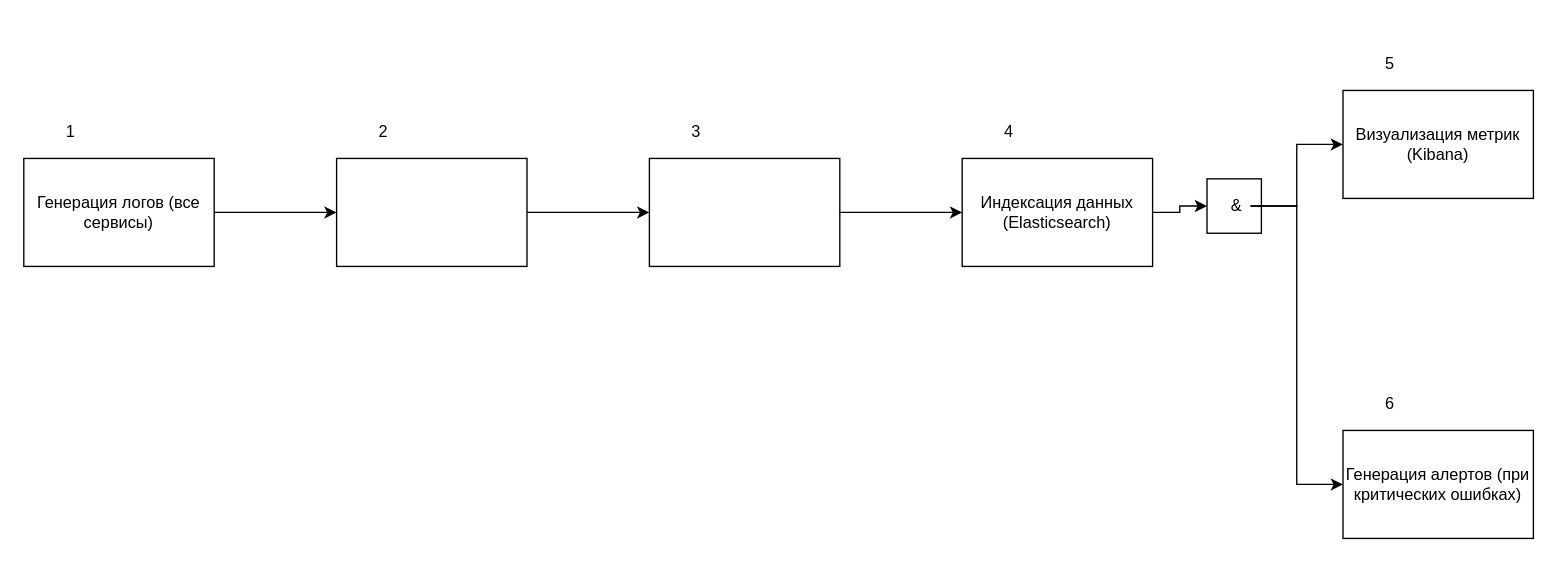
This 1557x577 diagram has some shape labels left out. Here are the shapes that lost their labels. From the top down, the centre of each, then its label:
point 431,211: Сбор логов (Filebeat)
point 744,211: Обработка и фильтрация (Logstash)
